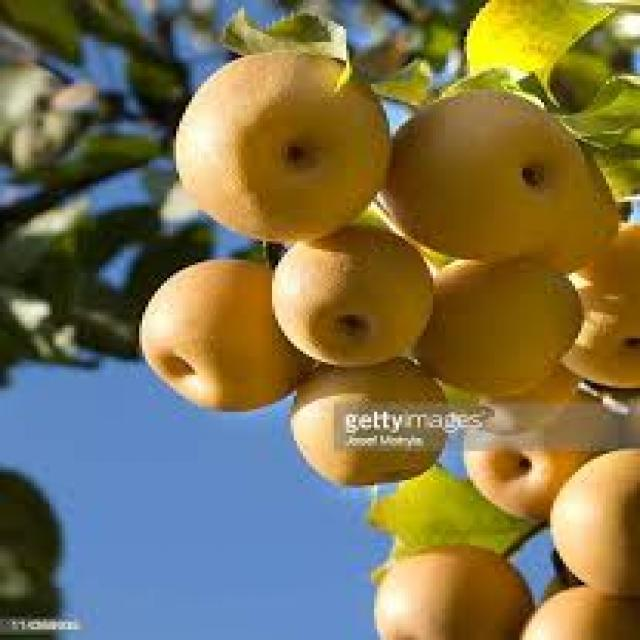Pear: (176, 52, 390, 243), (383, 89, 596, 263), (272, 226, 436, 369)
